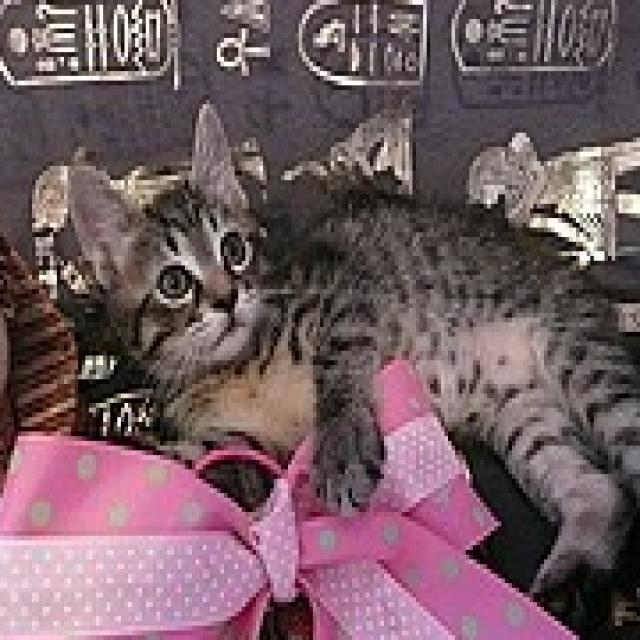Egyptian Mau: (67, 90, 640, 625)
